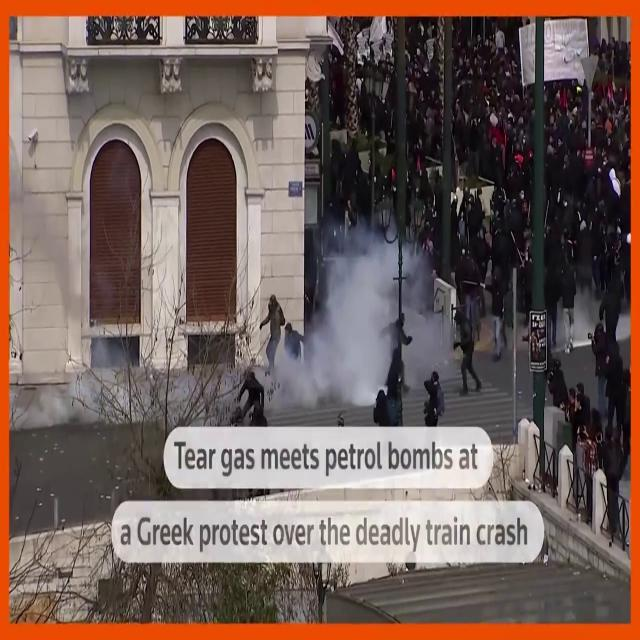Smoke: (266, 220, 439, 420), (13, 170, 92, 416)
